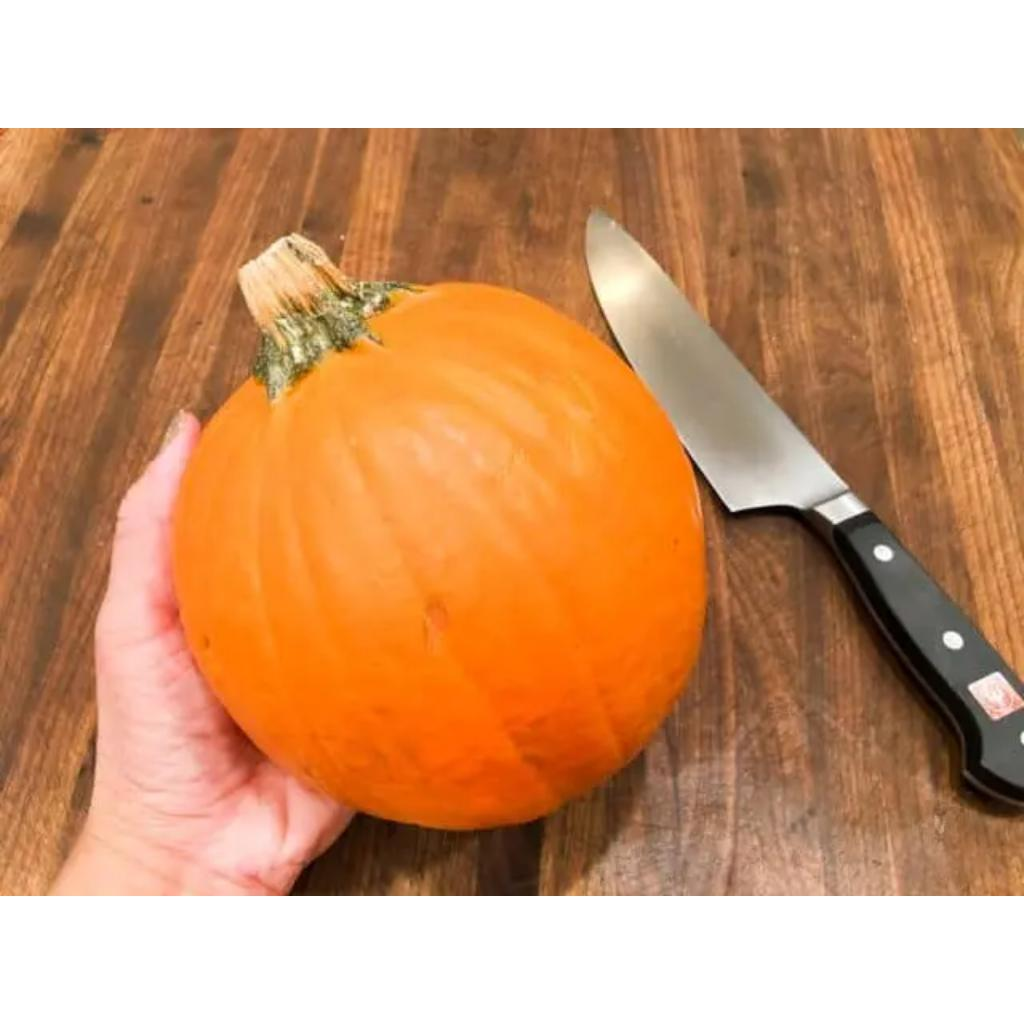pumpkin: (174, 234, 706, 828)
